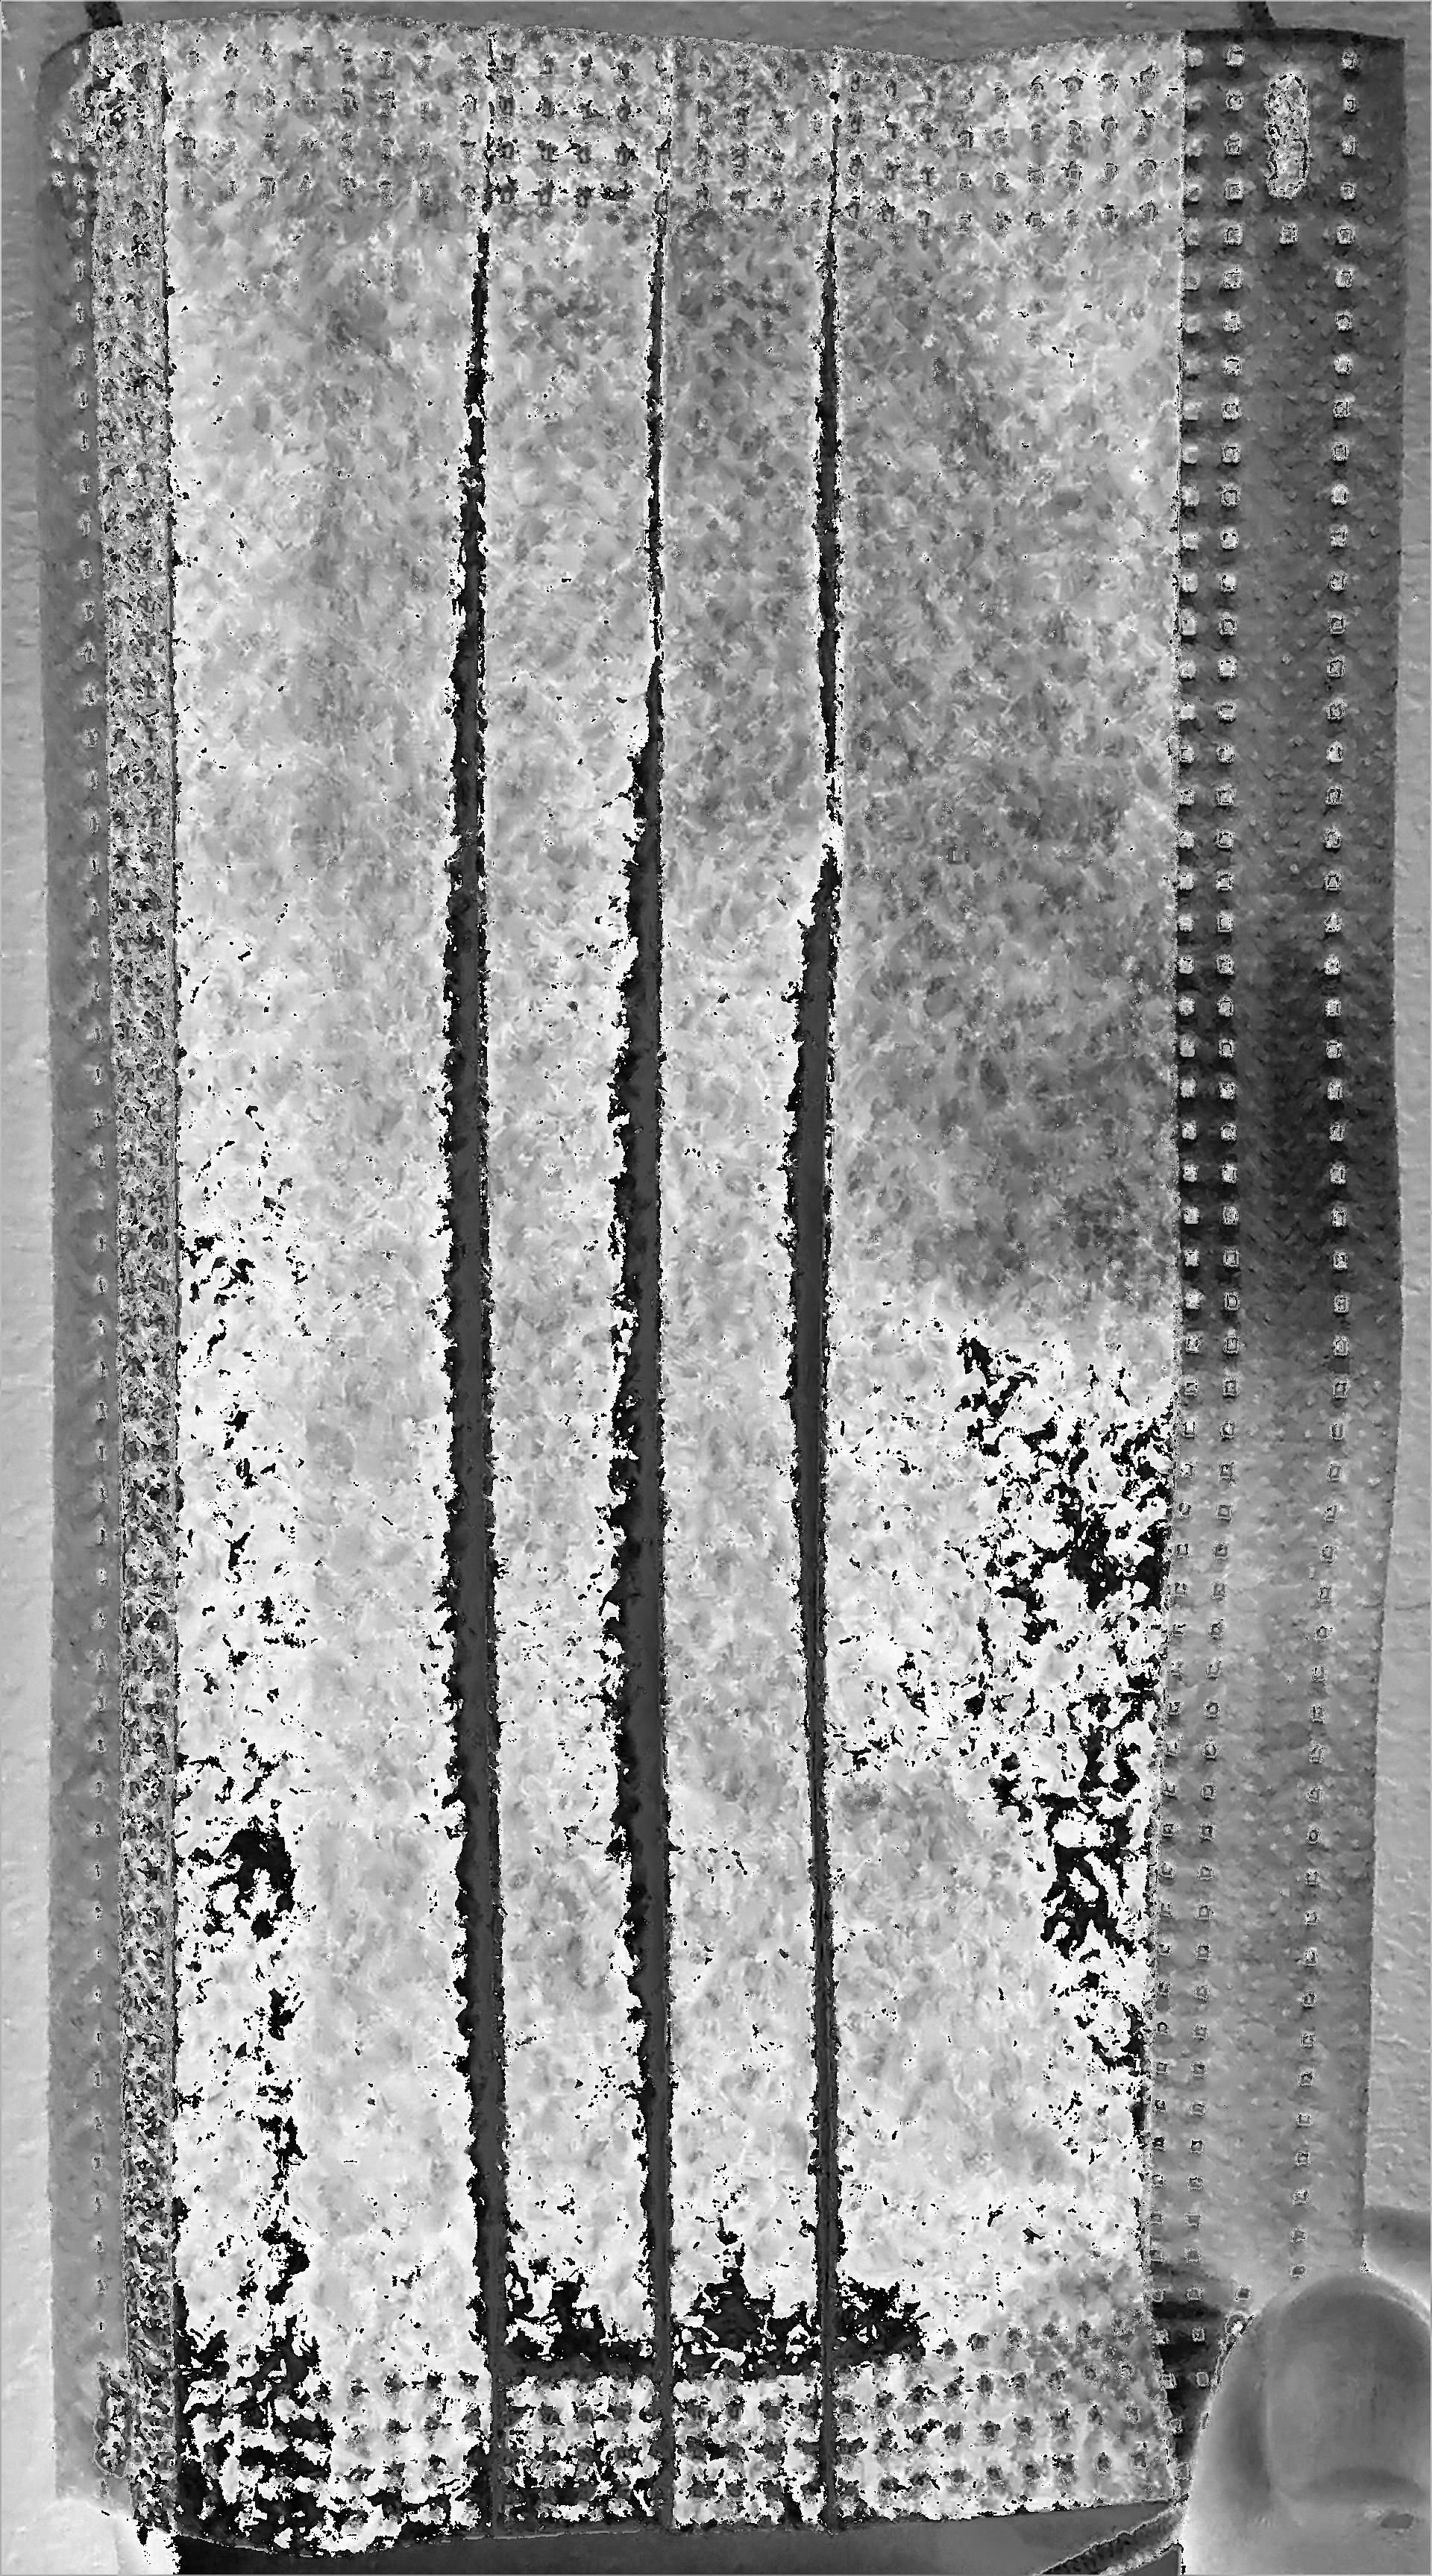Low GSM: (192, 242, 1136, 2303)
Undefined Area: (1167, 2257, 1432, 2571)
